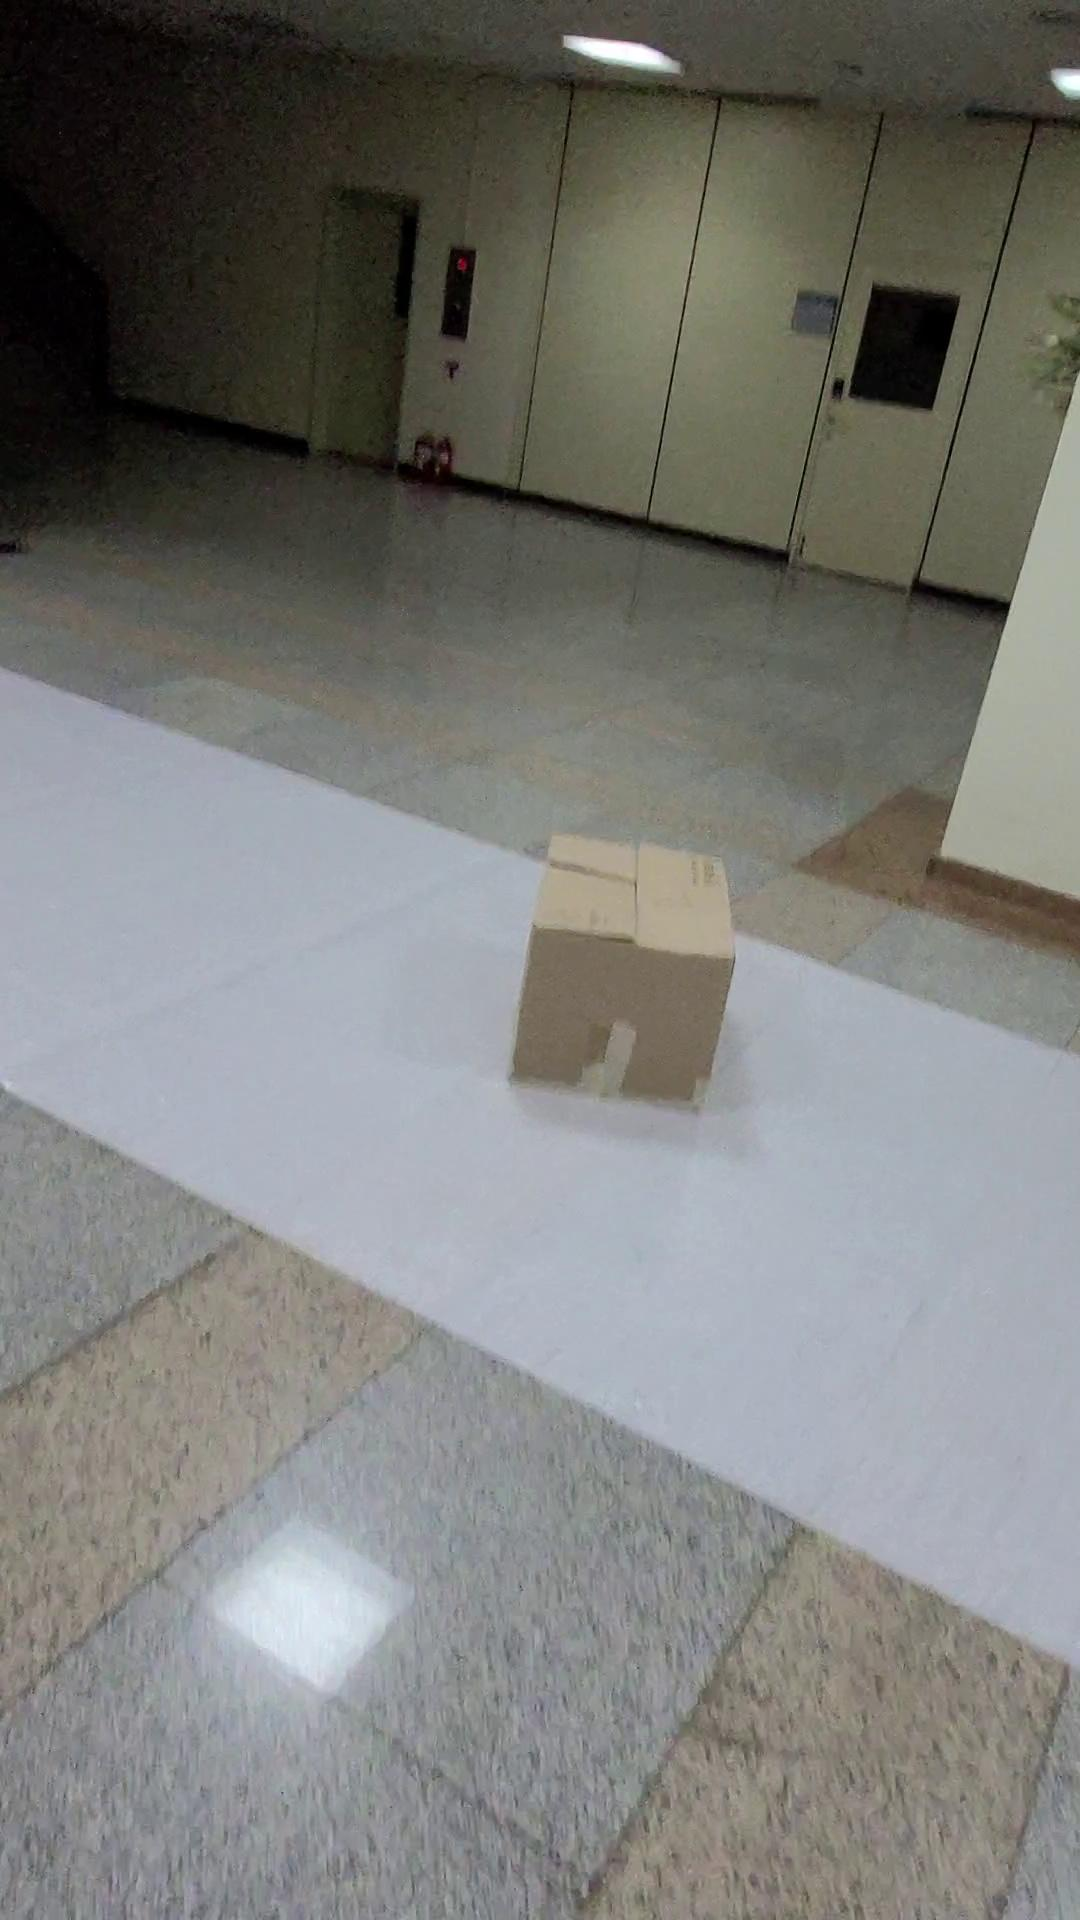Box: (471, 778, 782, 1143)
